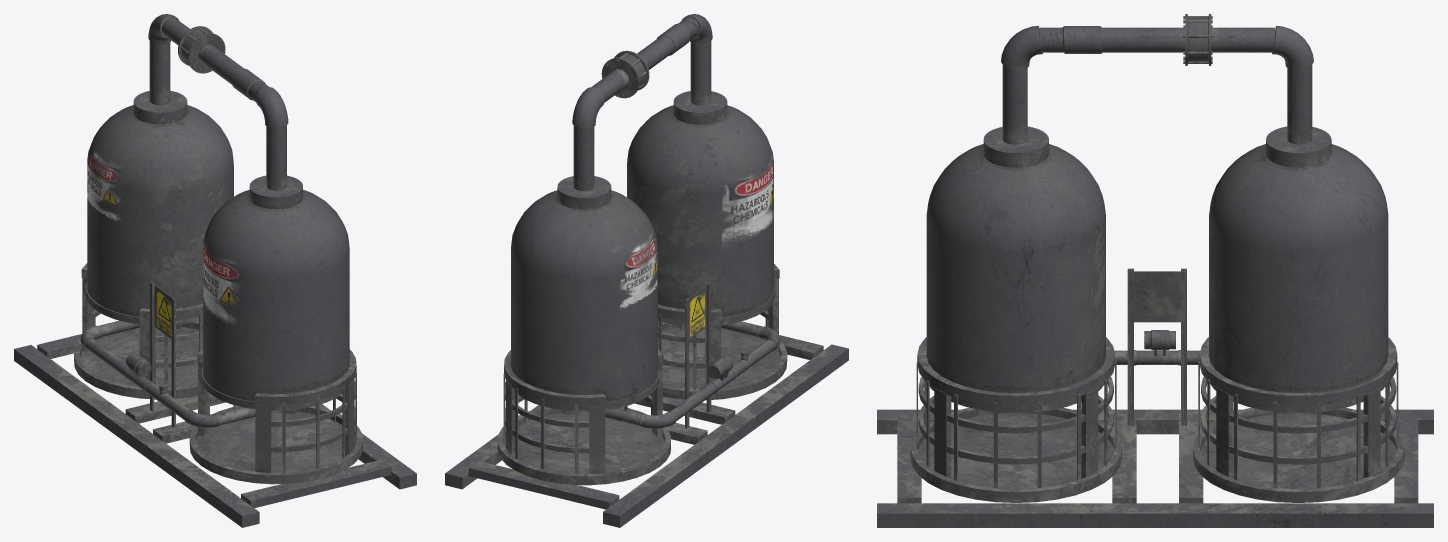
The model's file is chem_tanks.gltf.
3 renders of one model, left to right at view 1: azimuth 30°, elevation 25°; view 2: azimuth 150°, elevation 25°; view 3: azimuth 270°, elevation 25°, orthographic. The views are drawn at different scales.
Visible parts, largest first — view 1: chem_tanks; view 2: chem_tanks; view 3: chem_tanks.
Part boxes in pixels (left/top/right/bottom): chem_tanks: left=14, top=14, right=416, bottom=527; chem_tanks: left=445, top=14, right=848, bottom=527; chem_tanks: left=877, top=14, right=1433, bottom=527.
Bounding box in the file's own units: 2.7 × 5.6 × 6.12.
1 material, 1 textured.
